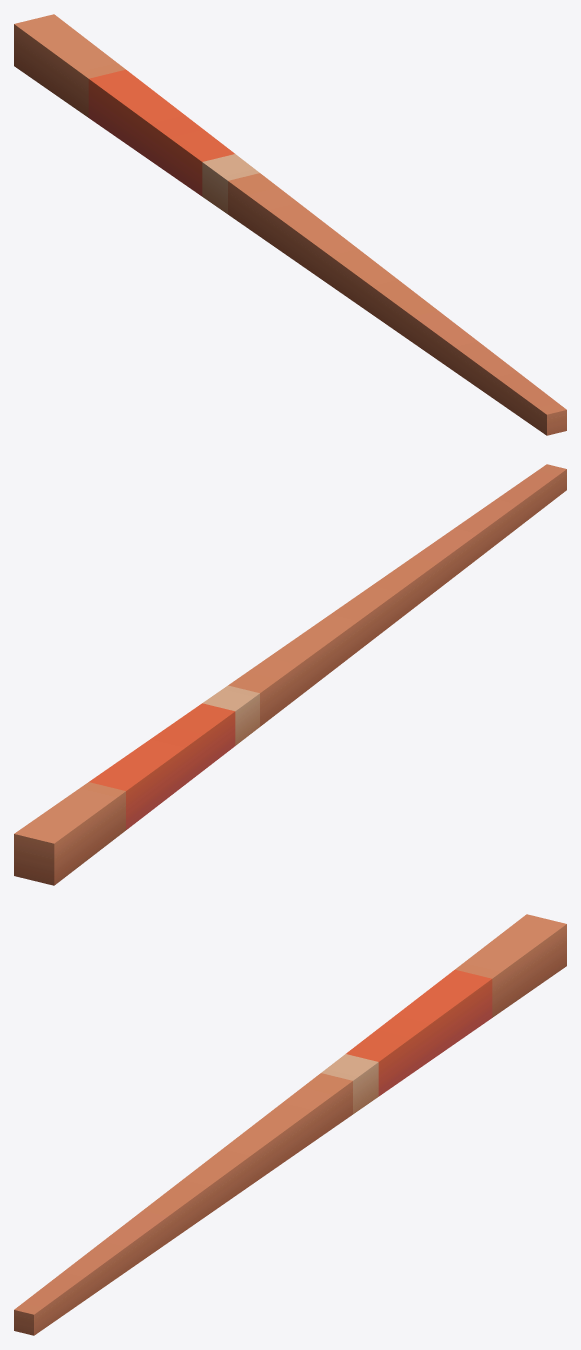
Rendered from chopstic-decorative.glb.
The picture shows the model from 3 angles, top to bottom: view 1: azimuth 30°, elevation 25°; view 2: azimuth 150°, elevation 25°; view 3: azimuth 330°, elevation 25°; orthographic projection.
Visible parts, largest first — view 1: chopstic-decorative; view 2: chopstic-decorative; view 3: chopstic-decorative.
Part boxes in pixels (<box>): chopstic-decorative: <box>14,14,566,435</box>; chopstic-decorative: <box>14,464,566,885</box>; chopstic-decorative: <box>14,914,566,1335</box>.
Bounding box in the file's own units: 0.02 × 0.02 × 0.45.
1 material, 1 textured.
